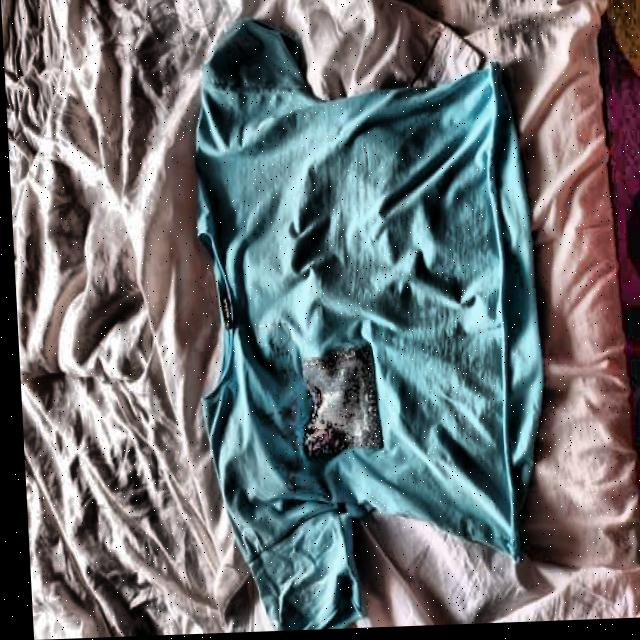clothes: (176, 2, 552, 634)
